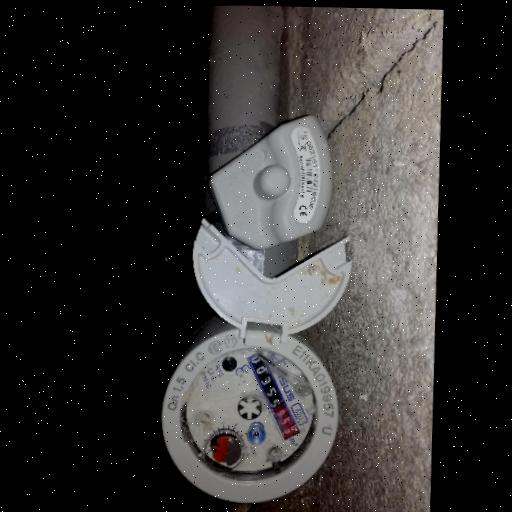0: (249, 354, 265, 365), (254, 364, 270, 375)
3: (259, 374, 274, 387)
5: (268, 397, 284, 409), (264, 386, 279, 398), (278, 416, 293, 428)
7: (280, 423, 300, 439)
9: (274, 407, 289, 419)
border_water_meter_number: (241, 349, 305, 443)
